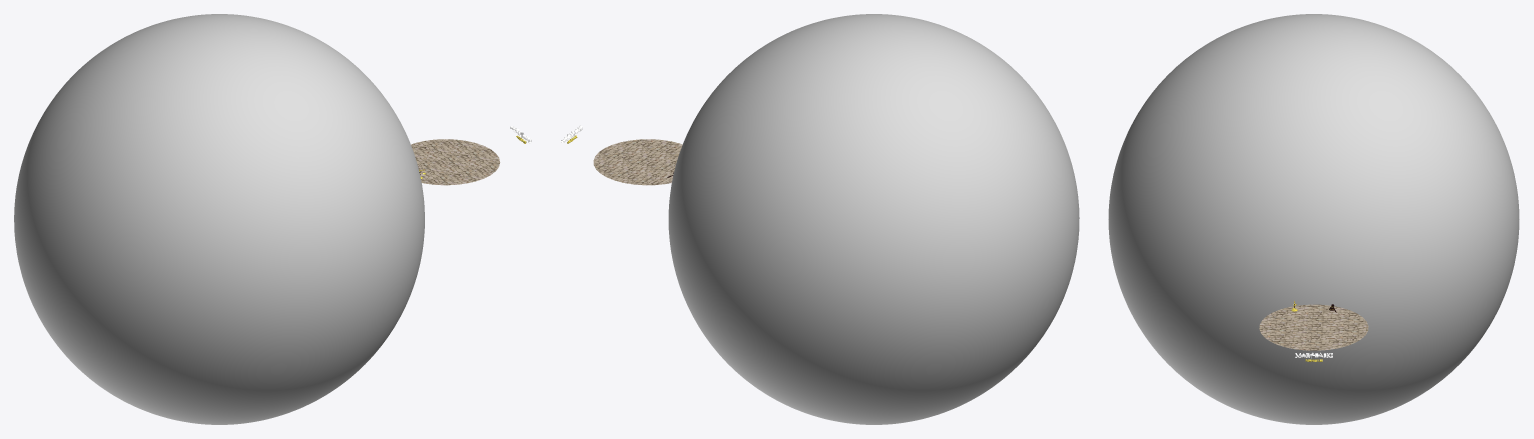
The model's file is home.gltf.
The picture shows the model from 3 angles, left to right: view 1: azimuth 30°, elevation 25°; view 2: azimuth 150°, elevation 25°; view 3: azimuth 270°, elevation 25°; orthographic projection.
Visible parts, largest first — view 1: Sphere, stone; view 2: Sphere, stone; view 3: Sphere, stone.
Boxes of the visible parts, x1,y1,x2,y2 form: Sphere: (14,14,424,424); stone: (411,139,500,185); Sphere: (668,14,1079,424); stone: (593,139,682,185); Sphere: (1108,14,1519,424); stone: (1259,304,1368,350).
Size of the model in its own units: 79.41 by 58.64 by 58.64.
8 materials, 6 textured.
